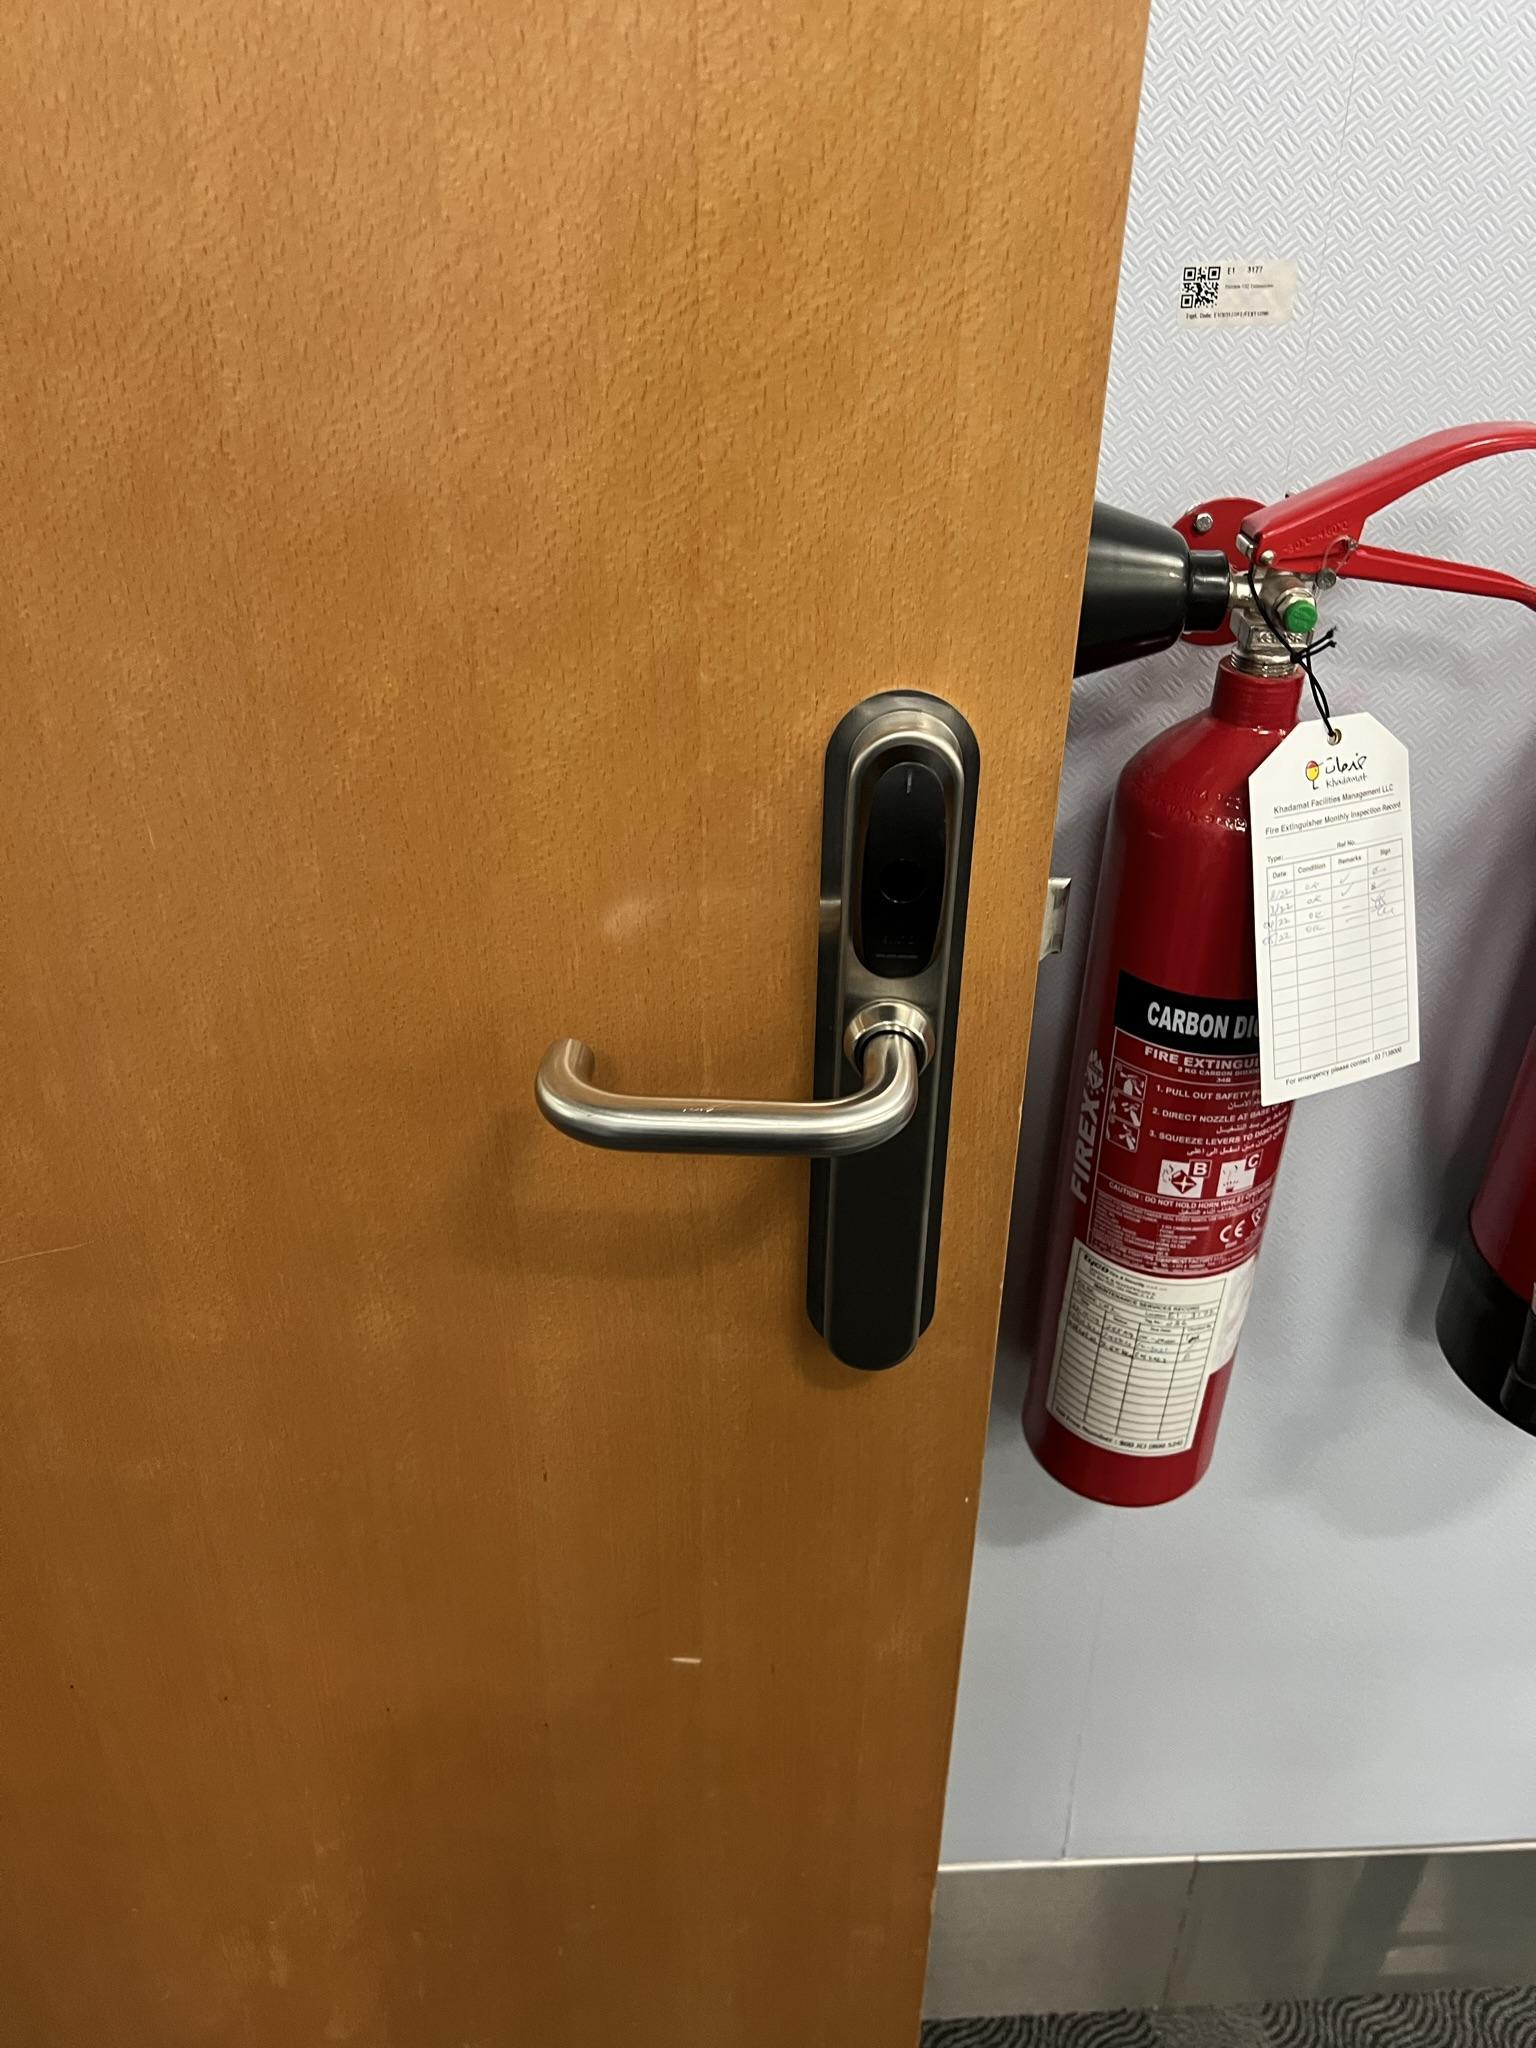door: (2, 2, 984, 2048)
handle: (516, 681, 981, 1382)
